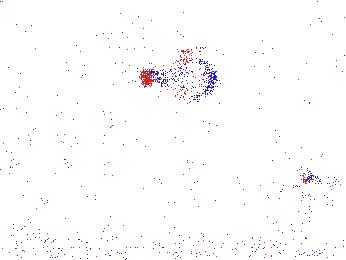flame jellyfish: (141, 57, 223, 102), (297, 166, 346, 215)
